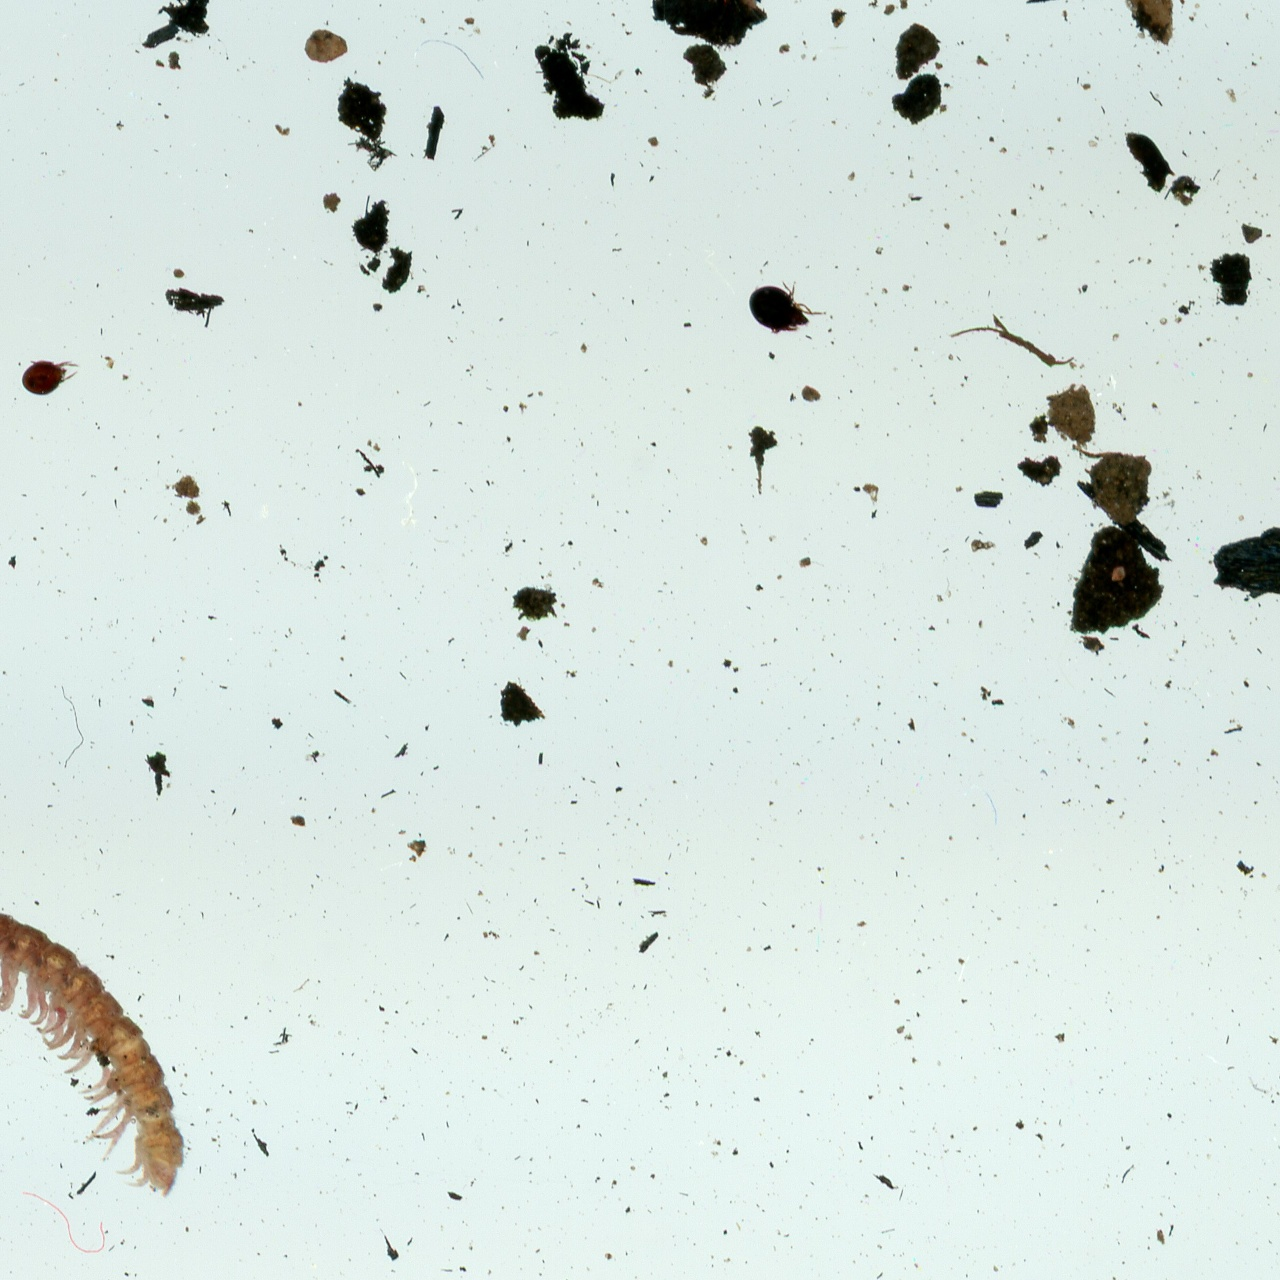arthropod: (0, 905, 188, 1201), (741, 275, 832, 340), (19, 353, 82, 400)
